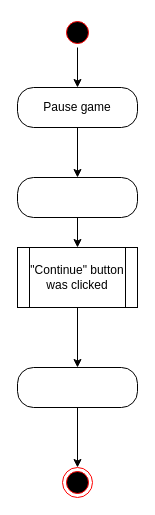
The diagram is 155 pixels wide and 515 high, and some of its shapes have lost their labels. Each missing label, with the centre of its shape:
Show "Ingame Menu" Panel: (x=77, y=197)
Unpause game: (x=77, y=387)
